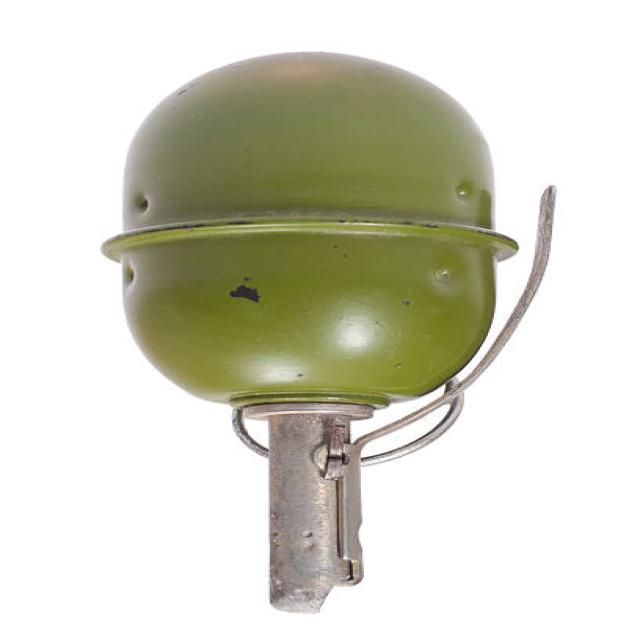grenade: (84, 42, 573, 621)
